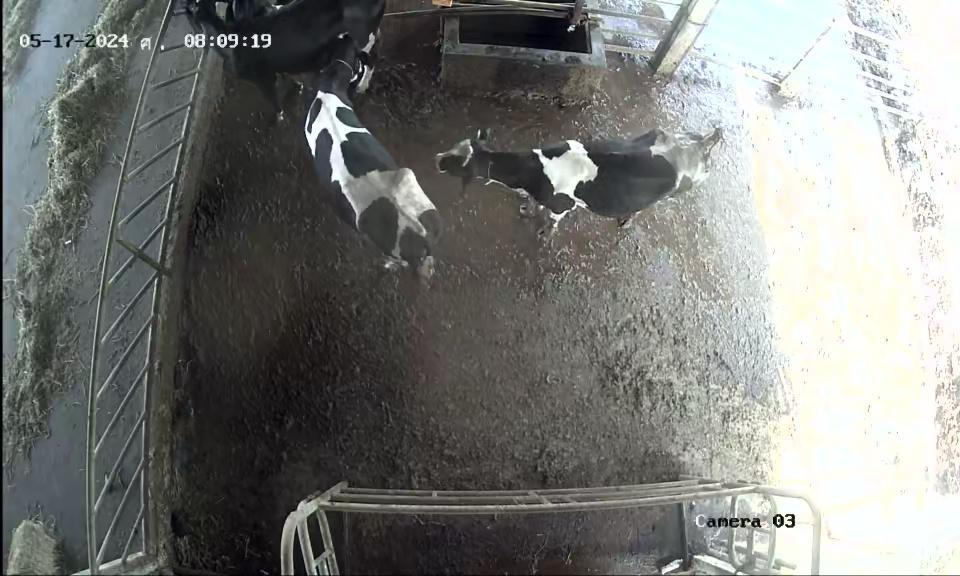stand: (284, 26, 447, 295), (430, 110, 748, 237), (182, 0, 403, 98)
